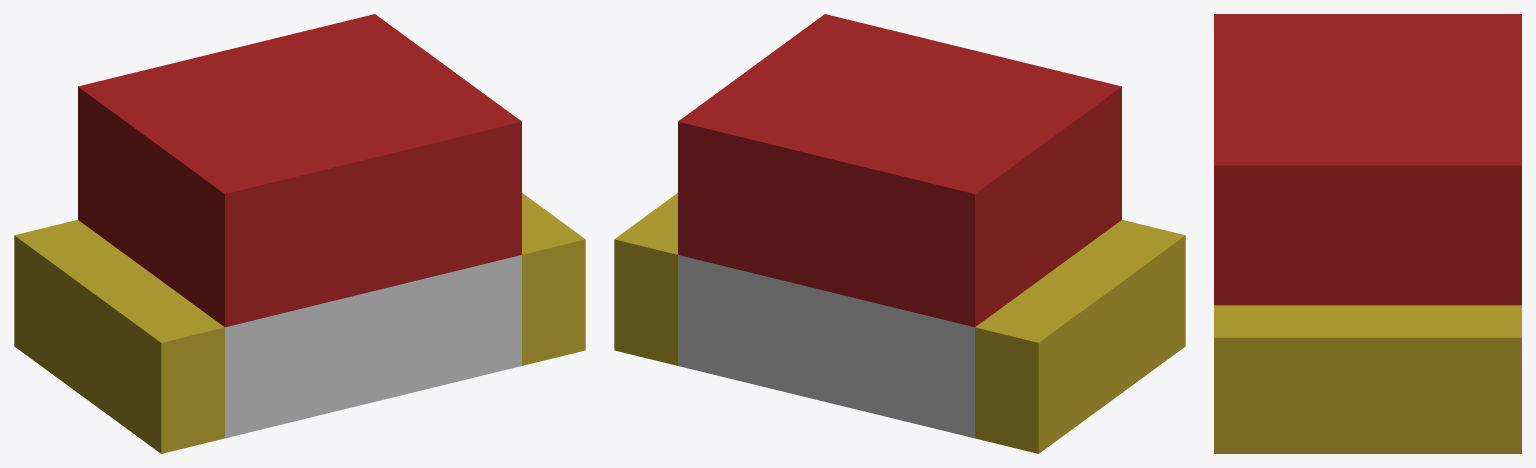
File: __mod__.glb
3 views of the same model, side by side, from view 1: azimuth 30°, elevation 25°; view 2: azimuth 150°, elevation 25°; view 3: azimuth 270°, elevation 25° (orthographic). The views are drawn at different scales.
Visible parts, largest first — view 1: Plane; view 2: Plane; view 3: Plane.
Part boxes in pixels (box(x1,y1,x2,y2)): Plane: box(14, 14, 585, 453); Plane: box(614, 14, 1185, 453); Plane: box(1214, 14, 1521, 453).
Bounding box in the file's own units: 0.002 × 0.0011 × 0.0012.
